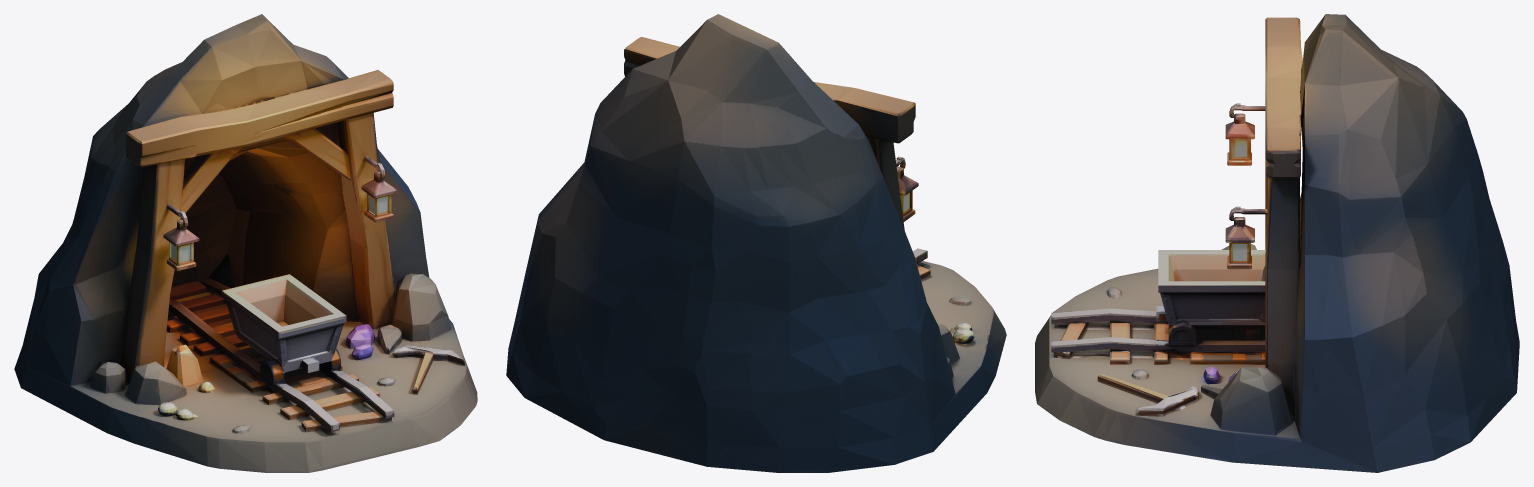
File: 02_seven-dwarfs-mine-train.glb
3 renders of one model, left to right at view 1: azimuth 30°, elevation 25°; view 2: azimuth 150°, elevation 25°; view 3: azimuth 270°, elevation 25°, orthographic. The views are drawn at different scales.
Visible parts, largest first — view 1: mesh_rep_0_ori_repair; view 2: mesh_rep_0_ori_repair; view 3: mesh_rep_0_ori_repair.
Part boxes in pixels (x1=…): mesh_rep_0_ori_repair: x1=14, y1=14, x2=477, y2=472; mesh_rep_0_ori_repair: x1=506, y1=14, x2=1006, y2=472; mesh_rep_0_ori_repair: x1=1035, y1=14, x2=1519, y2=472.
Bounding box in the file's own units: 11.42 × 9.23 × 11.42.
Materials: 1 (1 with a texture image).
